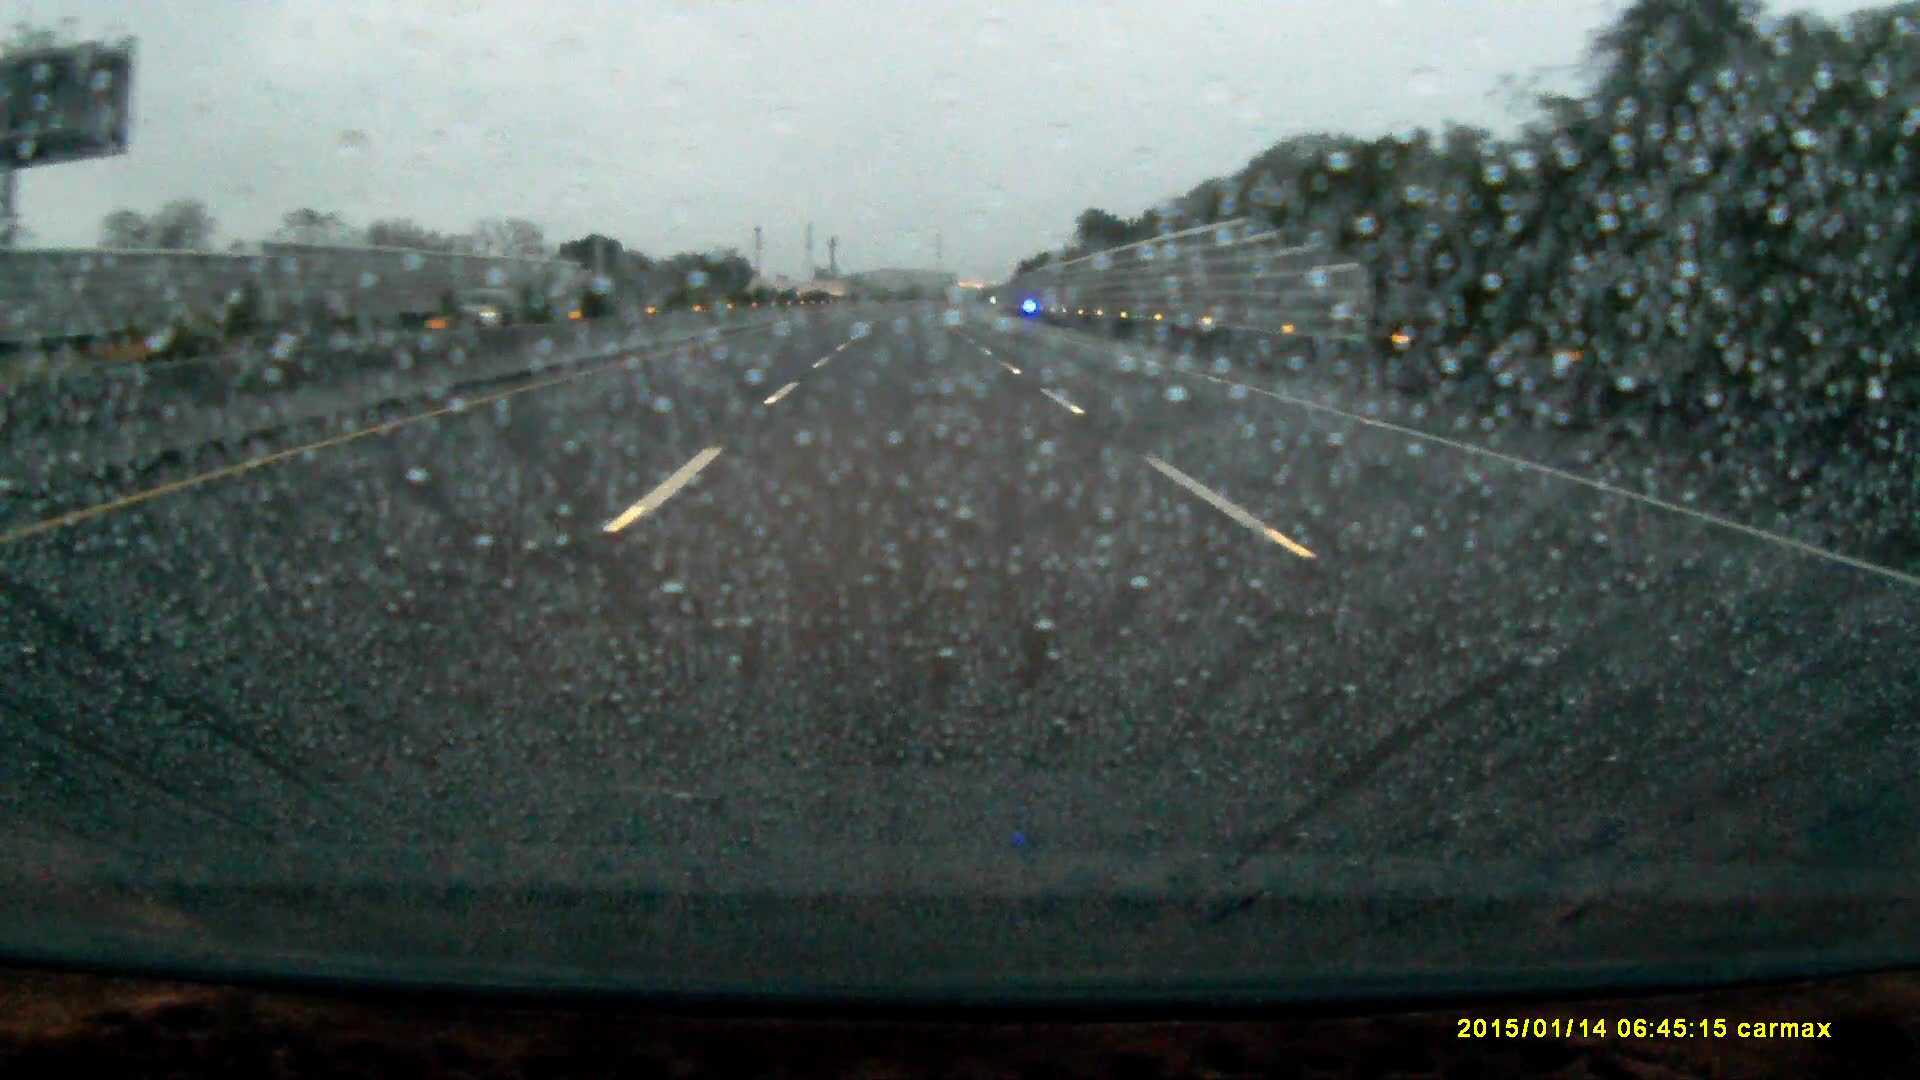vehicle: (444, 286, 512, 320)
